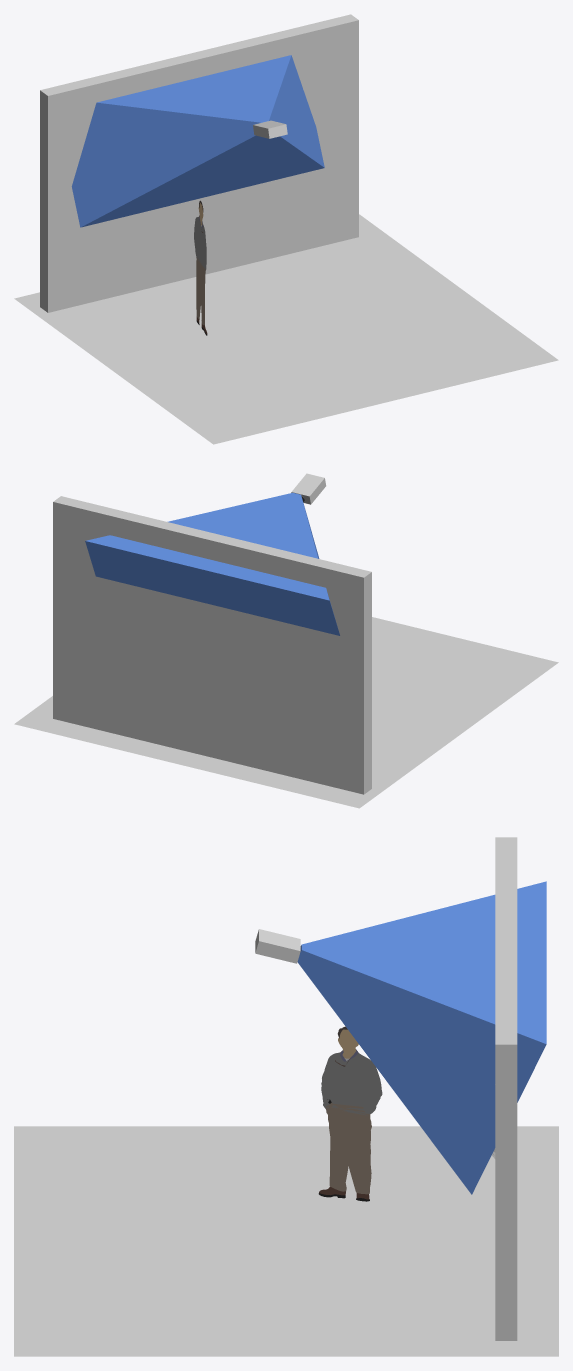
Rendered from SET_08_Pared_Piramides.obj.
3 views of the same model, one above another, from view 1: azimuth 30°, elevation 25°; view 2: azimuth 150°, elevation 25°; view 3: azimuth 270°, elevation 25° (orthographic). The views are drawn at different scales.
Visible parts, largest first — view 1: Mesh42 Component_9_1 Model, Mesh45 Component_80_1 Model, Mesh43 Component_67_1 Component_66_1 Component_65_1 Model, Mesh46 Model, Mesh47 Model, Mesh48 Model, Mesh50 Model, Mesh51 Model, Mesh49 Model, Mesh41 Derrick1 Model; view 2: Mesh45 Component_80_1 Model, Mesh42 Component_9_1 Model, Mesh43 Component_67_1 Component_66_1 Component_65_1 Model, Mesh44 Component_6_1 Component_66_1 Component_65_1 Model; view 3: Mesh42 Component_9_1 Model, Mesh43 Component_67_1 Component_66_1 Component_65_1 Model, Mesh45 Component_80_1 Model, Mesh41 Derrick1 Model, Mesh44 Component_6_1 Component_66_1 Component_65_1 Model.
Part boxes in pixels (bbox=[...]): Mesh42 Component_9_1 Model: bbox=[14, 214, 558, 444]; Mesh45 Component_80_1 Model: bbox=[40, 14, 358, 312]; Mesh43 Component_67_1 Component_66_1 Component_65_1 Model: bbox=[71, 55, 324, 227]; Mesh46 Model: bbox=[311, 177, 352, 238]; Mesh47 Model: bbox=[266, 189, 306, 249]; Mesh48 Model: bbox=[220, 200, 260, 261]; Mesh50 Model: bbox=[127, 222, 168, 283]; Mesh51 Model: bbox=[76, 235, 116, 296]; Mesh49 Model: bbox=[173, 211, 214, 272]; Mesh41 Derrick1 Model: bbox=[194, 200, 207, 335]; Mesh45 Component_80_1 Model: bbox=[53, 496, 371, 794]; Mesh42 Component_9_1 Model: bbox=[14, 617, 558, 808]; Mesh43 Component_67_1 Component_66_1 Component_65_1 Model: bbox=[85, 492, 339, 635]; Mesh44 Component_6_1 Component_66_1 Component_65_1 Model: bbox=[291, 473, 326, 504]; Mesh42 Component_9_1 Model: bbox=[14, 1126, 558, 1356]; Mesh43 Component_67_1 Component_66_1 Component_65_1 Model: bbox=[297, 881, 546, 1194]; Mesh45 Component_80_1 Model: bbox=[495, 837, 517, 1340]; Mesh41 Derrick1 Model: bbox=[318, 1026, 382, 1201]; Mesh44 Component_6_1 Component_66_1 Component_65_1 Model: bbox=[255, 929, 300, 963].
Bounding box in the file's own units: 5000 × 3000 × 5000.
